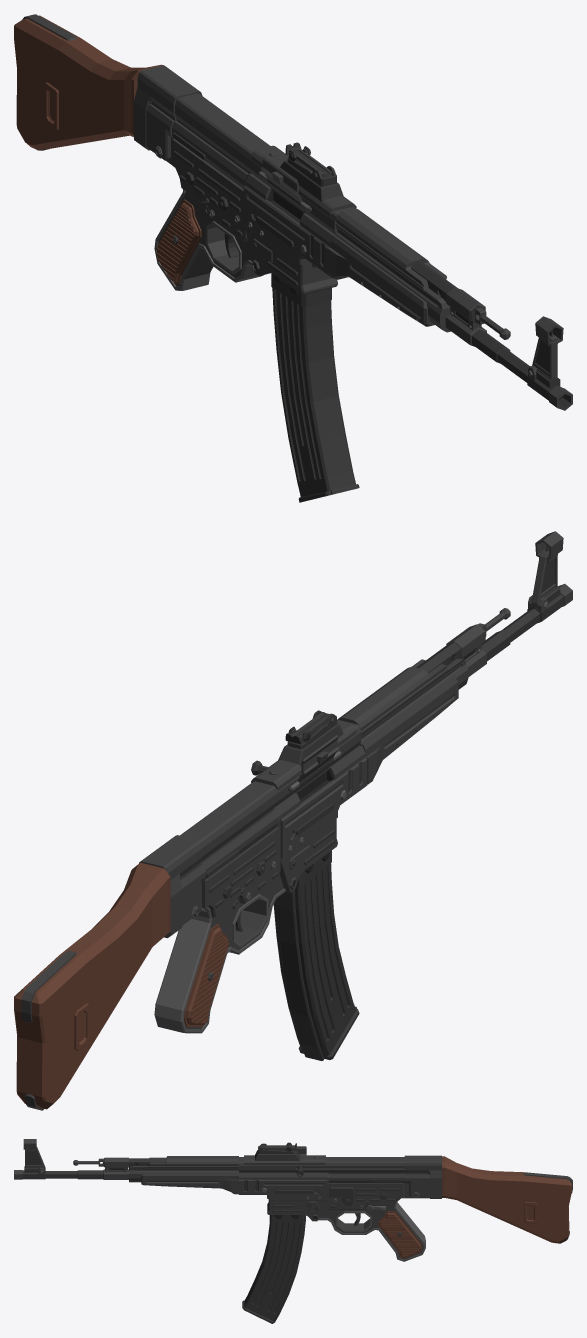
Rendered from WWII_AR_0418.fbx.
3 views of the same model, one above another, from view 1: azimuth 30°, elevation 25°; view 2: azimuth 150°, elevation 25°; view 3: azimuth 270°, elevation 25° (orthographic). The views are drawn at different scales.
Parts seen in each view (by area): view 1: WWII_AR_A_Receiver, WWII_AR_A_Stock, WWII_AR_A_Mag, WWII_AR_A_Barrel, WWII_AR_A_Sight, WWII_AR_A_Ejection Port; view 2: WWII_AR_A_Receiver, WWII_AR_A_Stock, WWII_AR_A_Mag, WWII_AR_A_Barrel, WWII_AR_A_Sight, WWII_AR_A_Ejection Port; view 3: WWII_AR_A_Receiver, WWII_AR_A_Stock, WWII_AR_A_Mag, WWII_AR_A_Barrel, WWII_AR_A_Sight.
Boxes of the visible parts, x1=… form: WWII_AR_A_Receiver: x1=134, y1=65, x2=450, y2=332; WWII_AR_A_Stock: x1=14, y1=14, x2=162, y2=150; WWII_AR_A_Mag: x1=271, y1=273, x2=359, y2=502; WWII_AR_A_Barrel: x1=411, y1=261, x2=572, y2=410; WWII_AR_A_Sight: x1=251, y1=142, x2=356, y2=215; WWII_AR_A_Ejection Port: x1=261, y1=155, x2=302, y2=202; WWII_AR_A_Receiver: x1=139, y1=658, x2=468, y2=1033; WWII_AR_A_Stock: x1=14, y1=862, x2=170, y2=1110; WWII_AR_A_Mag: x1=273, y1=850, x2=359, y2=1060; WWII_AR_A_Barrel: x1=416, y1=531, x2=572, y2=676; WWII_AR_A_Sight: x1=251, y1=710, x2=356, y2=790; WWII_AR_A_Ejection Port: x1=297, y1=735, x2=338, y2=782; WWII_AR_A_Receiver: x1=129, y1=1155, x2=441, y2=1261; WWII_AR_A_Stock: x1=442, y1=1156, x2=572, y2=1243; WWII_AR_A_Mag: x1=242, y1=1215, x2=305, y2=1323; WWII_AR_A_Barrel: x1=14, y1=1139, x2=166, y2=1179; WWII_AR_A_Sight: x1=244, y1=1142, x2=325, y2=1164.
Bounding box in the file's own units: 6.32 × 35.46 × 98.7.
